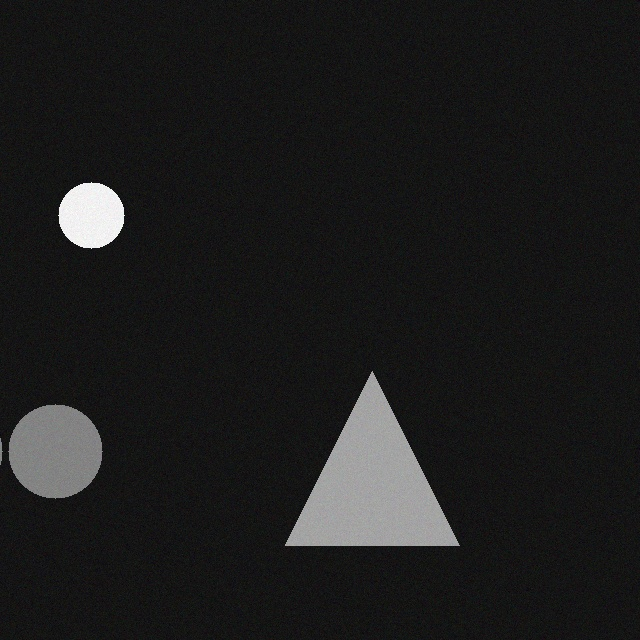circle: (3, 410, 97, 504), (53, 188, 119, 254)
triangle: (280, 377, 454, 551)
